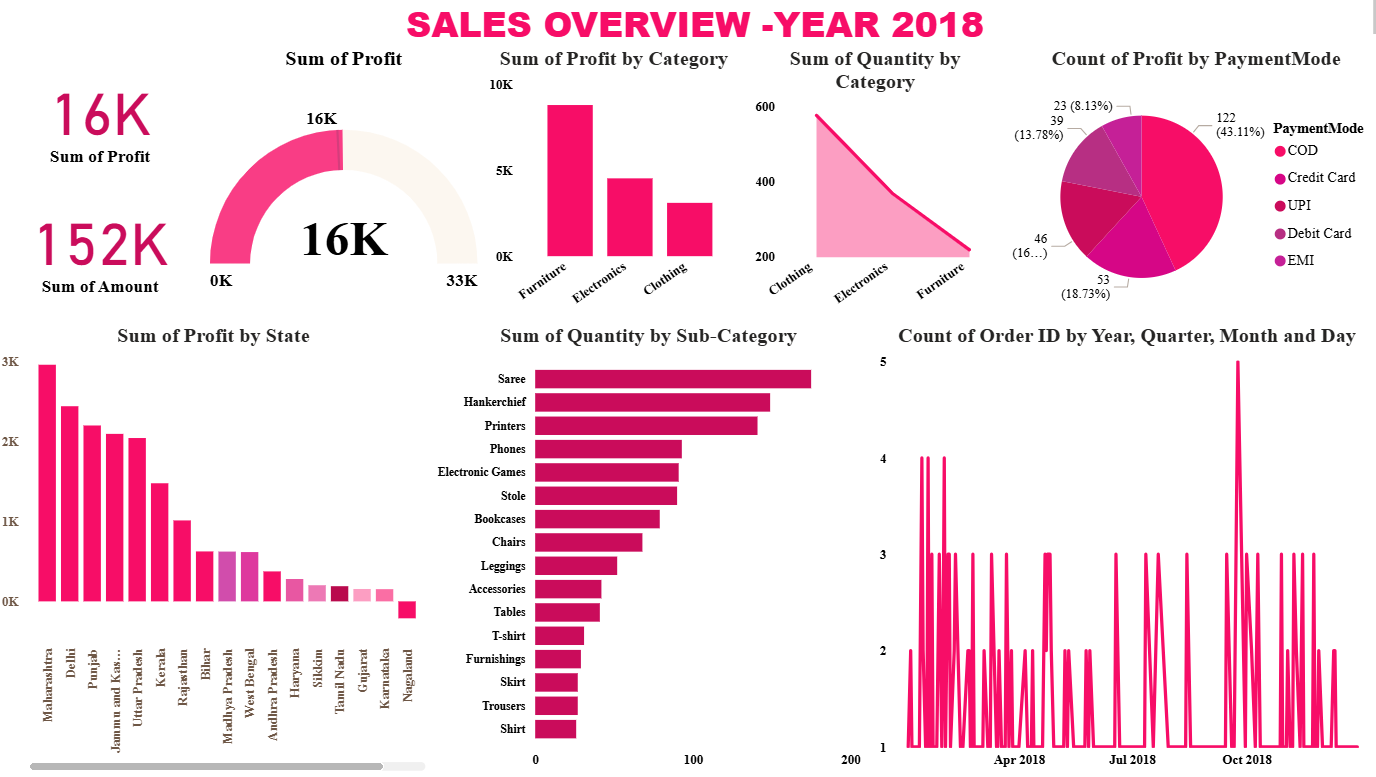

What the dashboard file says about the page in this screenshot:
{"tool":"powerbi","page":{"name":"DASHBOARD","canvas":[1280,720],"ordinal":0},"visuals":[{"type":"pieChart","fields":{"Category":["salesdataset.PaymentMode"],"Y":["CountNonNull(salesdataset.Profit)"]},"box":[928,48,352,256],"z":0},{"type":"clusteredBarChart","fields":{"Category":["salesdataset.Sub-Category"],"Y":["Sum(salesdataset.Quantity)"]},"box":[400,304,400,416],"z":1000},{"type":"columnChart","fields":{"Category":["salesdataset.State"],"Y":["Sum(salesdataset.Profit)"]},"box":[0,304,400,416],"z":2000},{"type":"card","fields":{"Values":["Sum(salesdataset.Profit)"]},"box":[0,48,192,128],"z":3000},{"type":"card","fields":{"Values":["Sum(salesdataset.Amount)"]},"box":[0,160,192,144],"z":4000},{"type":"textbox","box":[0,0,1279.7,47.8],"z":5000},{"type":"gauge","fields":{"Y":["Sum(salesdataset.Profit)"]},"box":[192,48,256,256],"z":6000},{"type":"actionButton","box":[0,0,100,40],"z":7000},{"type":"columnChart","fields":{"Category":["salesdataset.Category"],"Y":["Sum(salesdataset.Profit)"]},"box":[448,48,240,256],"z":8000},{"type":"areaChart","fields":{"Y":["Sum(salesdataset.Quantity)"],"Category":["salesdataset.Category"]},"box":[688,48,240,256],"z":9000},{"type":"lineChart","fields":{"Y":["CountNonNull(salesdataset.Order ID)"],"Category":["salesdataset.Order Date.Variation.Date Hierarchy.Year","salesdataset.Order Date.Variation.Date Hierarchy.Quarter","salesdataset.Order Date.Variation.Date Hierarchy.Month","salesdataset.Order Date.Variation.Date Hierarchy.Day"]},"box":[800,304,480,416],"z":10000}]}

Visuals, with their boxes in screenshot pixels (x1, y1, x2, y2), scaled from the page's 1280x720 canvas onto the 1376x777 screenshot:
pieChart - salesdataset.PaymentMode x CountNonNull(salesdataset.Profit): detection(998, 52, 1375, 328)
clusteredBarChart - salesdataset.Sub-Category x Sum(salesdataset.Quantity): detection(430, 328, 860, 776)
columnChart - salesdataset.State x Sum(salesdataset.Profit): detection(0, 328, 430, 776)
card - Sum(salesdataset.Profit): detection(0, 52, 206, 190)
card - Sum(salesdataset.Amount): detection(0, 173, 206, 328)
textbox: detection(0, 0, 1375, 52)
gauge - Sum(salesdataset.Profit): detection(206, 52, 482, 328)
actionButton: detection(0, 0, 108, 43)
columnChart - salesdataset.Category x Sum(salesdataset.Profit): detection(482, 52, 740, 328)
areaChart - Sum(salesdataset.Quantity) x salesdataset.Category: detection(740, 52, 998, 328)
lineChart - CountNonNull(salesdataset.Order ID) x salesdataset.Order Date.Variation.Date Hierarchy.Year: detection(860, 328, 1375, 776)
